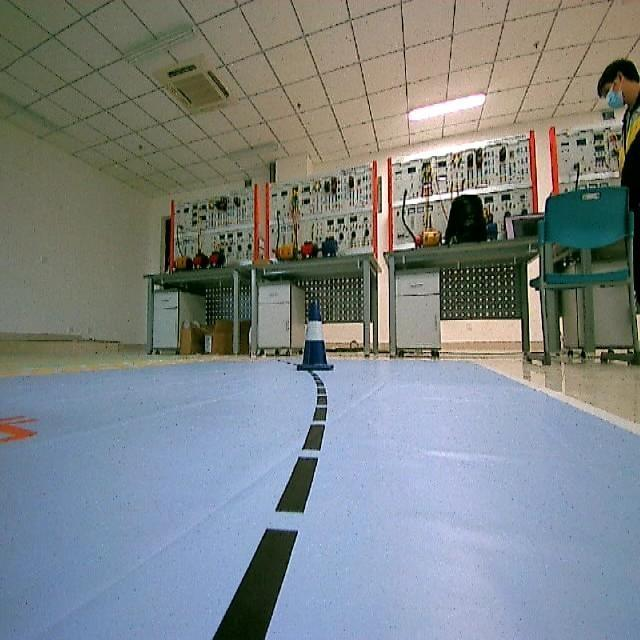obstacle: (286, 302, 338, 376)
